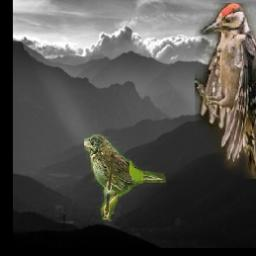Sparrow: (83, 134, 165, 221)
Woodpecker: (195, 3, 256, 179)
